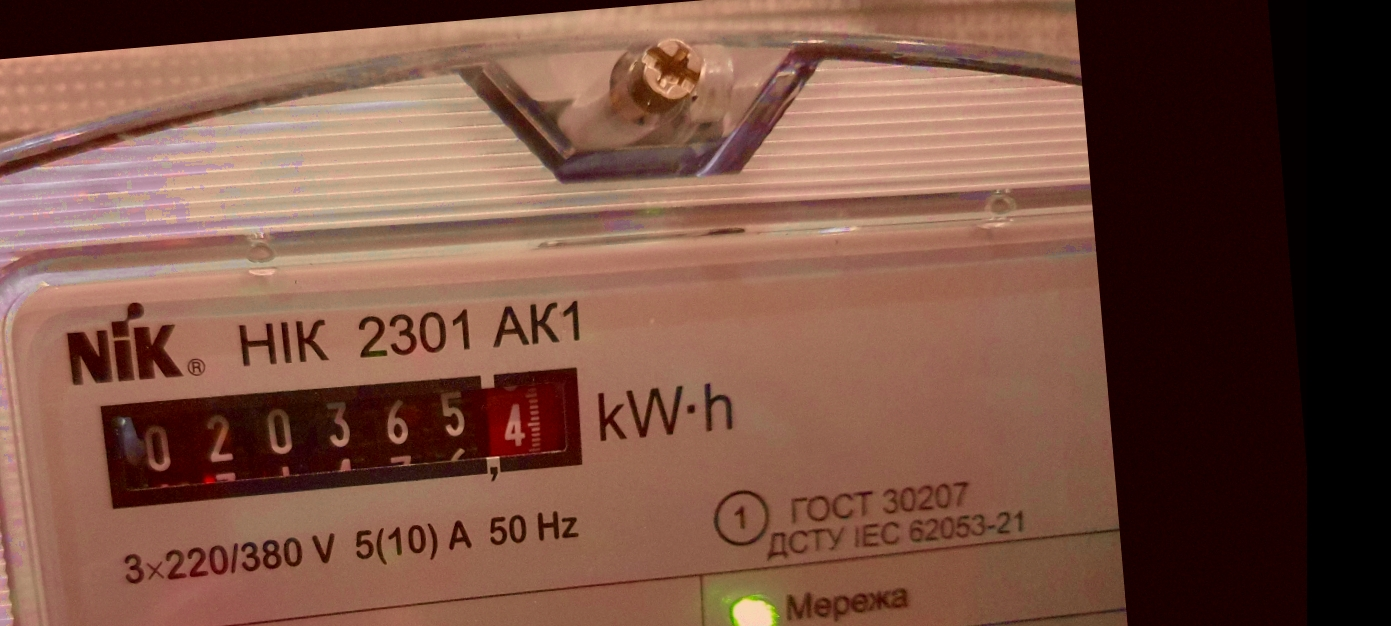0: (139, 418, 176, 476), (263, 405, 297, 457)
2: (202, 410, 236, 463)
3: (322, 398, 355, 450)
4: (499, 398, 527, 448)
5: (439, 389, 469, 438)
6: (381, 394, 411, 446)
screen: (85, 346, 603, 526)
